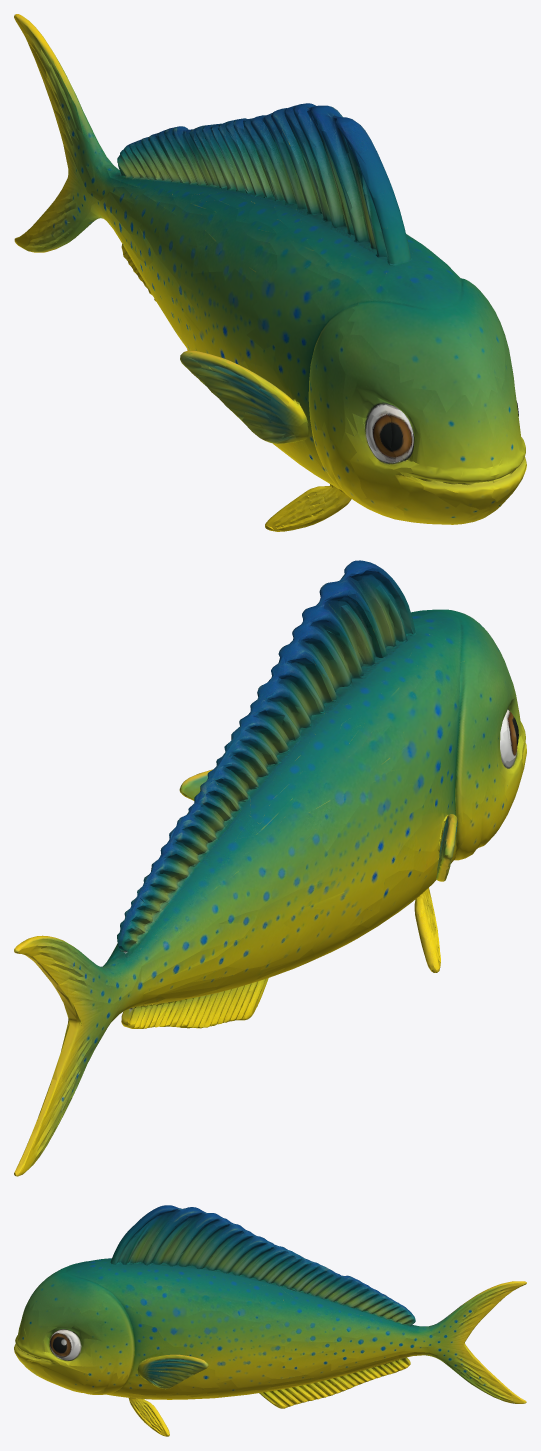
File: dorado_src.glb
The picture shows the model from 3 angles, top to bottom: view 1: azimuth 30°, elevation 25°; view 2: azimuth 150°, elevation 25°; view 3: azimuth 270°, elevation 25°; orthographic projection. The views are drawn at different scales.
Parts seen in each view (by area): view 1: Mesh_0; view 2: Mesh_0; view 3: Mesh_0.
Part boxes in pixels (x1,y1,x2,y2): Mesh_0: [14, 14, 526, 531]; Mesh_0: [14, 560, 526, 1176]; Mesh_0: [14, 1205, 526, 1436].
Bounding box in the file's own units: 0.6182 × 0.8482 × 1.9.
Materials: 1 (1 with a texture image).
